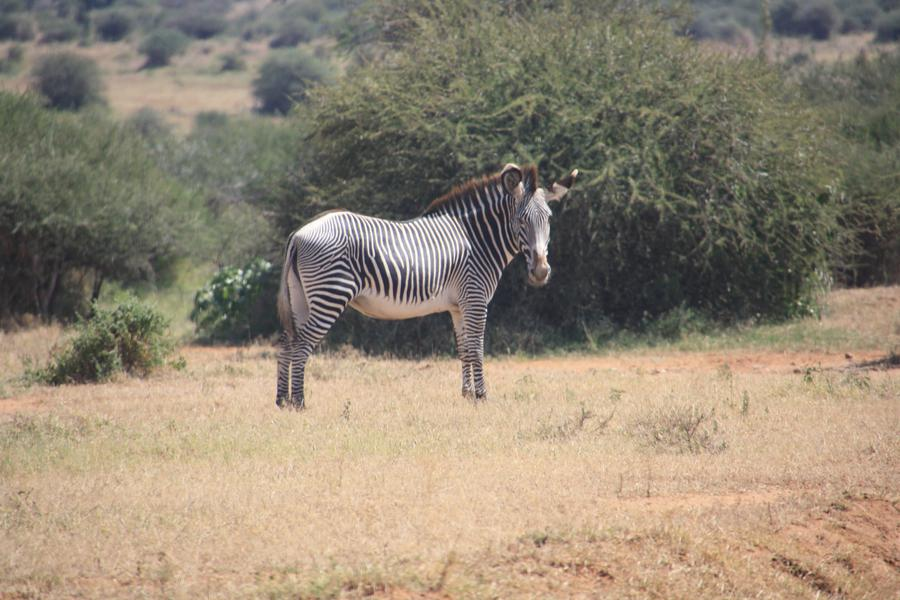zebra_grevys: (288, 198, 495, 300)
